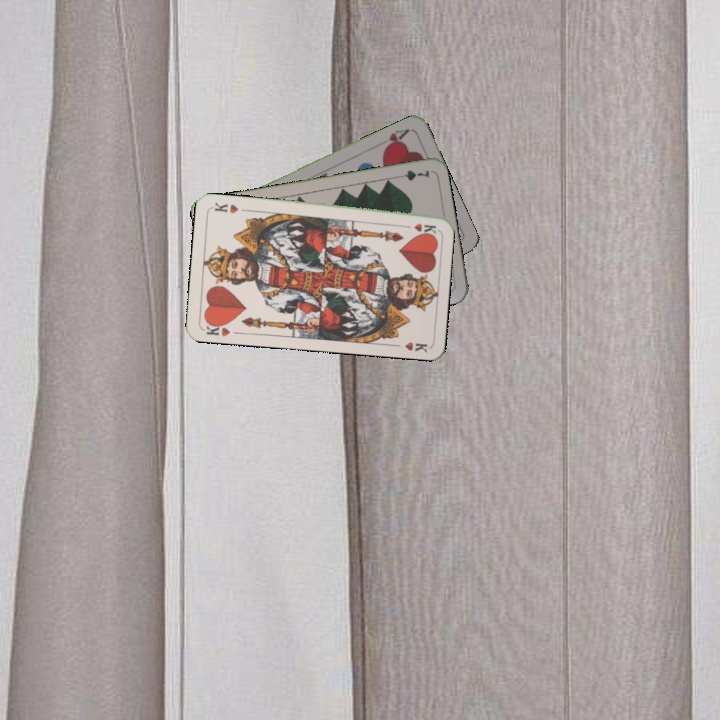G7: (391, 166, 432, 183)
HA: (379, 125, 412, 153)
HK: (200, 317, 232, 339), (398, 219, 439, 235)
